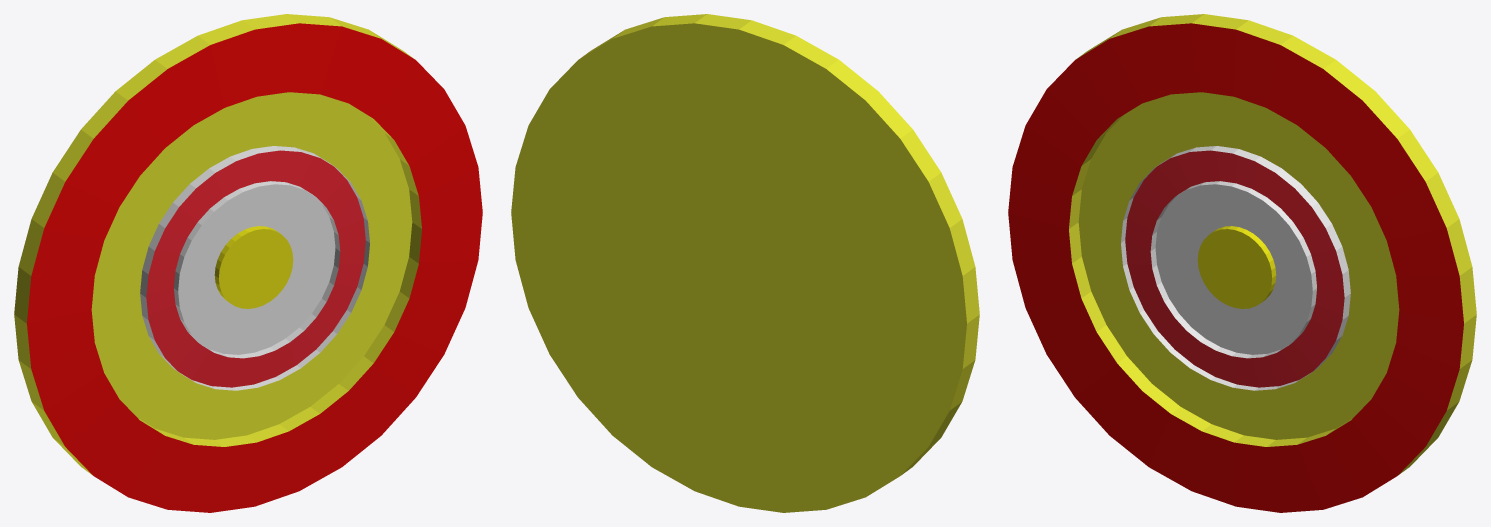
The model's file is Target.fbx.
3 renders of one model, left to right at view 1: azimuth 30°, elevation 25°; view 2: azimuth 150°, elevation 25°; view 3: azimuth 330°, elevation 25°, orthographic.
Parts seen in each view (by area): view 1: Rostro Grande, Cylinder, Rostro Chico, Cylinder.002, Centro; view 2: Cylinder; view 3: Rostro Grande, Cylinder, Rostro Chico, Cylinder.002, Centro.
Part boxes in pixels (x1,y1,x2,y2): Rostro Grande: (27,23,482,512); Cylinder: (14,14,421,475); Rostro Chico: (140,146,369,390); Cylinder.002: (146,150,365,387); Centro: (214,226,293,308); Cylinder: (511,14,979,512); Rostro Grande: (1008,23,1463,512); Cylinder: (1069,14,1476,475); Rostro Chico: (1121,146,1350,390); Cylinder.002: (1125,150,1344,387); Centro: (1197,226,1276,308).
Bounding box in the file's own units: 200 × 200 × 13.
